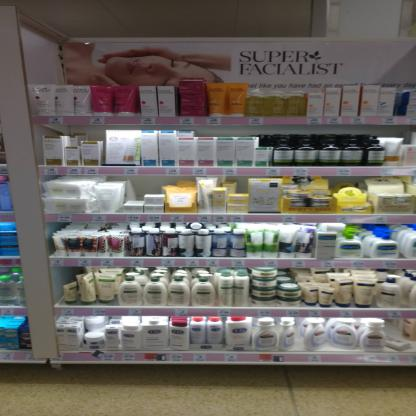Void: (127, 178, 158, 195), (86, 125, 111, 140), (204, 128, 253, 135), (55, 268, 74, 282)
